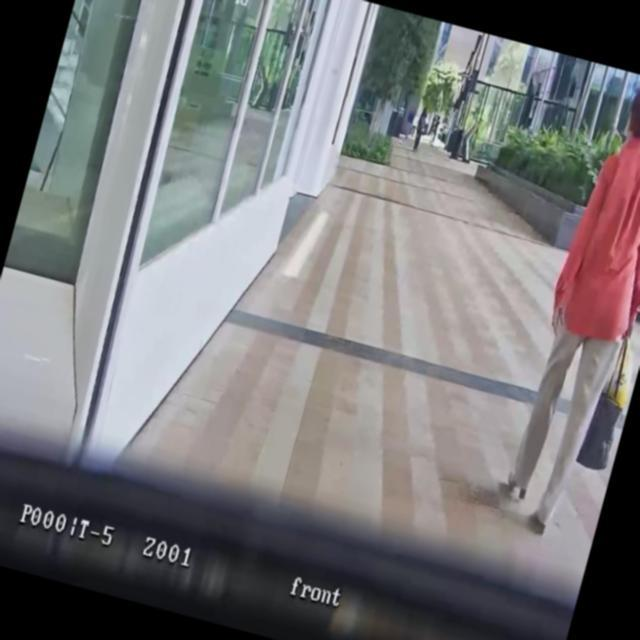person: (491, 73, 640, 544), (409, 106, 429, 152), (428, 115, 442, 146), (408, 112, 419, 136)
